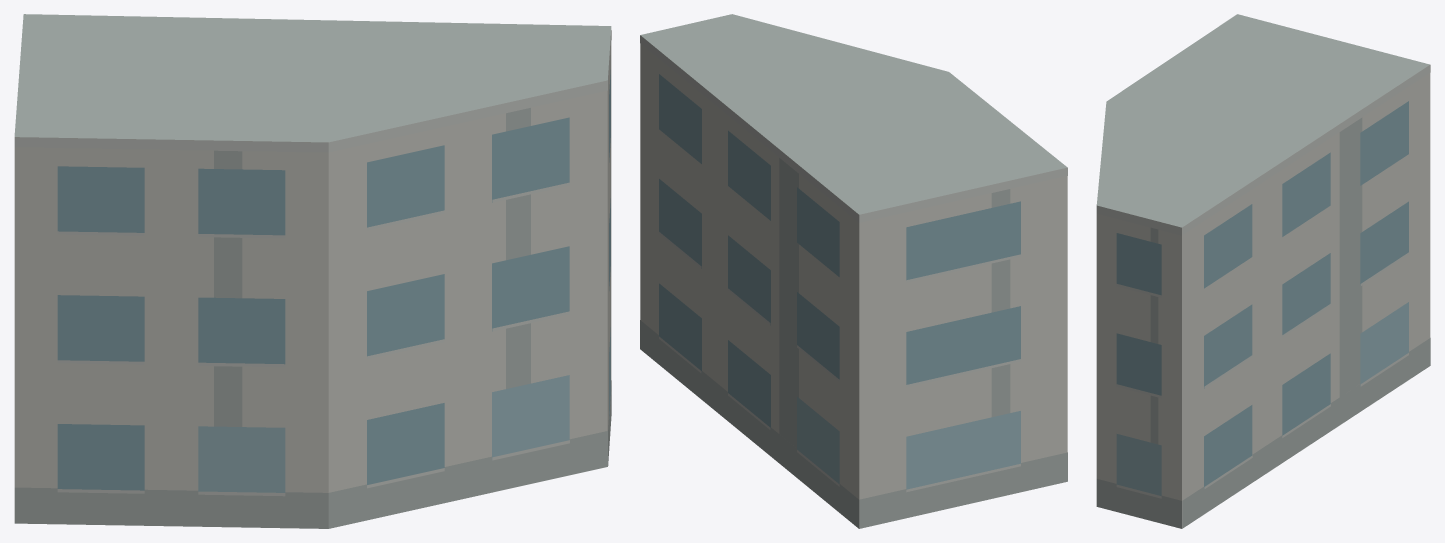
File: residential-b438e4c2-4e23-4f3b-b9a9-3cef06e7bd5c.glb
3 views of the same model, side by side, from view 1: azimuth 30°, elevation 25°; view 2: azimuth 150°, elevation 25°; view 3: azimuth 270°, elevation 25° (orthographic). The views are drawn at different scales.
Visible parts, largest first — view 1: residential-b438e4c2-4e23-4f3b-b9a9-3cef06e7bd5c.tmp; view 2: residential-b438e4c2-4e23-4f3b-b9a9-3cef06e7bd5c.tmp; view 3: residential-b438e4c2-4e23-4f3b-b9a9-3cef06e7bd5c.tmp.
Boxes of the visible parts, x1=… form: residential-b438e4c2-4e23-4f3b-b9a9-3cef06e7bd5c.tmp: x1=14, y1=14, x2=611, y2=528; residential-b438e4c2-4e23-4f3b-b9a9-3cef06e7bd5c.tmp: x1=640, y1=14, x2=1067, y2=528; residential-b438e4c2-4e23-4f3b-b9a9-3cef06e7bd5c.tmp: x1=1096, y1=14, x2=1430, y2=528.
Bounding box in the file's own units: 13.92 × 9.15 × 9.19.
